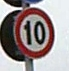limite 10: (14, 8, 53, 59)
